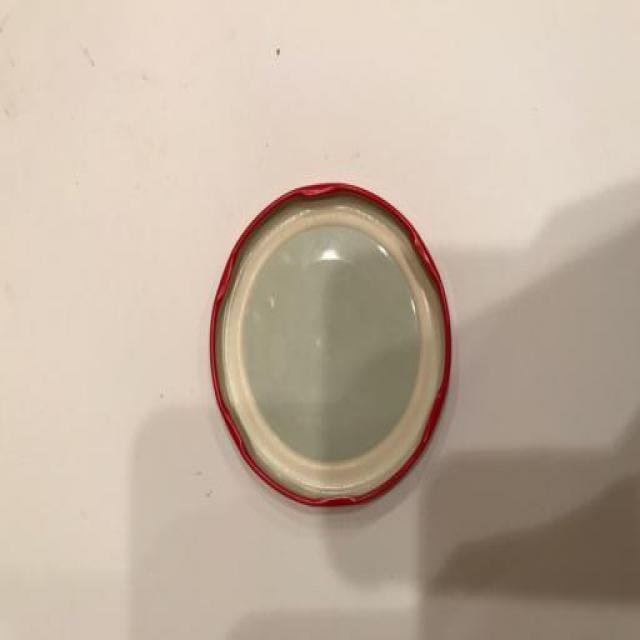metel: (204, 163, 460, 548)
